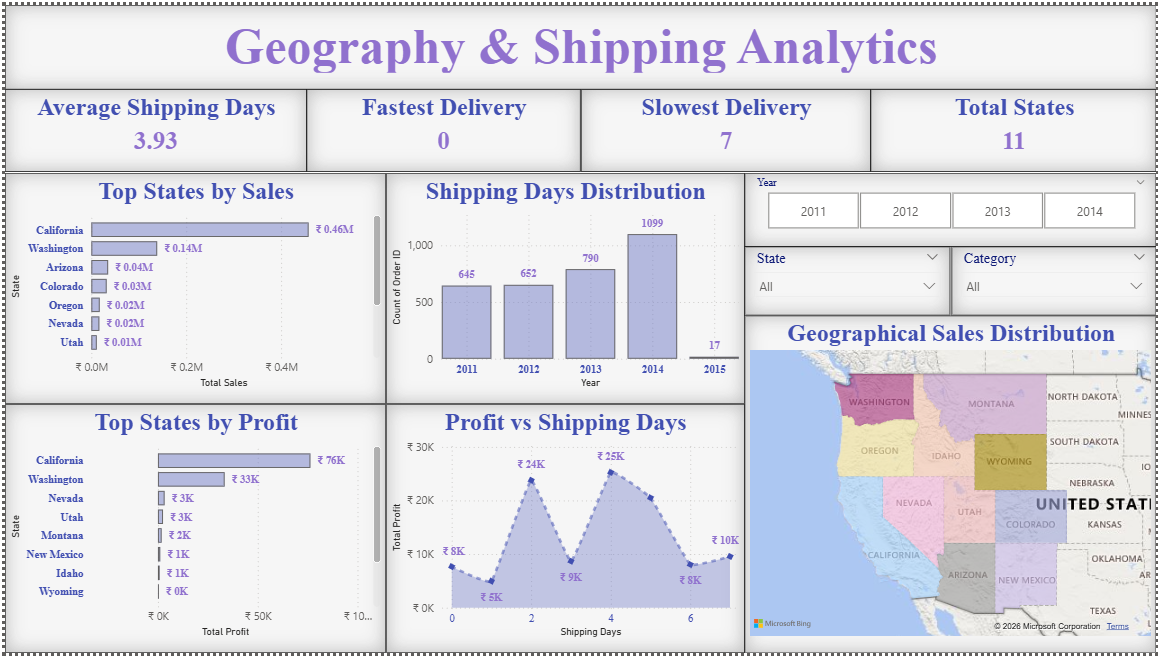

The dashboard page shown, as its layout file describes it:
{"tool":"powerbi","page":{"name":"Geography & Shipping Analytics","canvas":[1280,720],"ordinal":3},"visuals":[{"type":"card","fields":{"Values":["Calculations.page 4"]},"box":[0,0,1280.8,93.9],"z":0},{"type":"card","title":"Average Shipping Days","fields":{"Values":["Calculations.Average Shipping Days"]},"box":[0,93.9,335.2,92.3],"z":1000},{"type":"card","title":"Fastest Delivery","fields":{"Values":["Calculations.Fastest Delivery"]},"box":[335.2,93.9,304.4,92.3],"z":2000},{"type":"card","title":"Slowest Delivery","fields":{"Values":["Calculations.Slowest Delivery"]},"box":[639.6,93.9,322.2,92.3],"z":3000},{"type":"card","title":"Total States","fields":{"Values":["Calculations.Total States"]},"box":[961.8,93.9,319,92.3],"z":4000},{"type":"clusteredBarChart","title":"Top States by Sales","fields":{"Category":["amazon_powerbi.State"],"Y":["Calculations.Total Sales"]},"box":[0,186.7,423.3,256.7],"z":5000},{"type":"clusteredBarChart","title":"Top States by Profit","fields":{"Category":["amazon_powerbi.State"],"Y":["Calculations.Total Profit"]},"box":[0,443.3,423.3,276.7],"z":6000},{"type":"lineChart","title":"Profit vs Shipping Days","fields":{"Y":["Calculations.Total Profit"],"Category":["amazon_powerbi.Shipping Days"]},"box":[423.3,443.3,398.3,276.7],"z":7000},{"type":"filledMap","title":"Geographical Sales Distribution","fields":{"Category":["amazon_powerbi.State"]},"box":[821.7,345,458.3,375],"z":8000},{"type":"clusteredColumnChart","title":"Shipping Days Distribution","fields":{"Category":["amazon_powerbi.Ship Date.Variation.Date Hierarchy.Year","amazon_powerbi.Ship Date.Variation.Date Hierarchy.Quarter","amazon_powerbi.Ship Date.Variation.Date Hierarchy.Month","amazon_powerbi.Ship Date.Variation.Date Hierarchy.Day"],"Y":["CountNonNull(amazon_powerbi.Order ID)"]},"box":[423.3,186.7,398.3,256.7],"z":9000},{"type":"slicer","fields":{"Values":["amazon_powerbi.State"]},"box":[821.7,268.3,228.3,76.7],"z":10000},{"type":"slicer","fields":{"Values":["amazon_powerbi.Month.Variation.Date Hierarchy.Year"]},"box":[821.7,186.7,458.3,81.7],"z":11000},{"type":"slicer","fields":{"Values":["amazon_powerbi.Category"]},"box":[1051.7,268.3,228.3,76.7],"z":12000}]}

Visuals, with their boxes in screenshot pixels (x1, y1, x2, y2), scaled from the page's 1280x720 canvas onto the 1160x658 screenshot:
card - Calculations.page 4: region(0, 0, 1159, 86)
"Average Shipping Days" card: region(0, 86, 304, 170)
"Fastest Delivery" card: region(304, 86, 580, 170)
"Slowest Delivery" card: region(580, 86, 872, 170)
"Total States" card: region(872, 86, 1159, 170)
"Top States by Sales" clusteredBarChart: region(0, 171, 384, 405)
"Top States by Profit" clusteredBarChart: region(0, 405, 384, 657)
"Profit vs Shipping Days" lineChart: region(384, 405, 745, 657)
"Geographical Sales Distribution" filledMap: region(745, 315, 1159, 657)
"Shipping Days Distribution" clusteredColumnChart: region(384, 171, 745, 405)
slicer - amazon_powerbi.State: region(745, 245, 952, 315)
slicer - amazon_powerbi.Month.Variation.Date Hierarchy.Year: region(745, 171, 1159, 245)
slicer - amazon_powerbi.Category: region(953, 245, 1159, 315)
